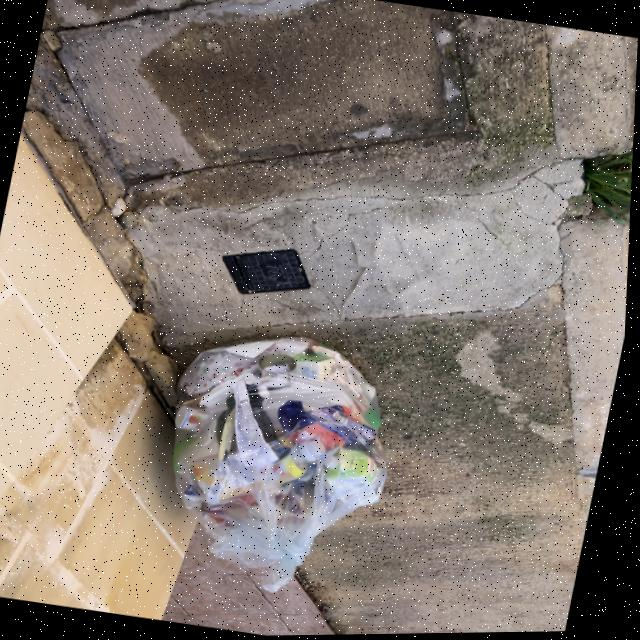Recycled Waste -Grey or Green Bag-: (147, 319, 416, 610)
